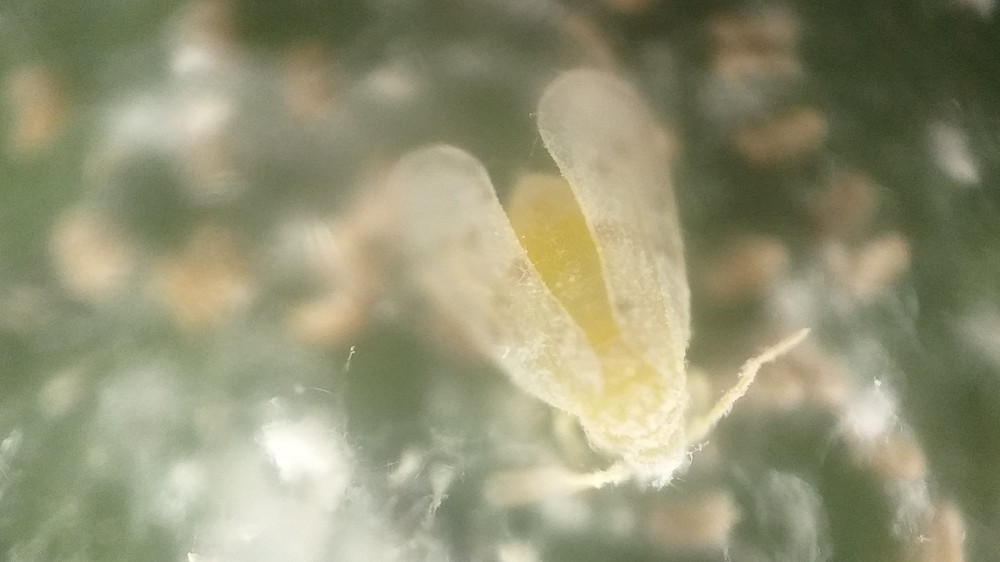Mosca Blanca: (366, 64, 826, 515)
